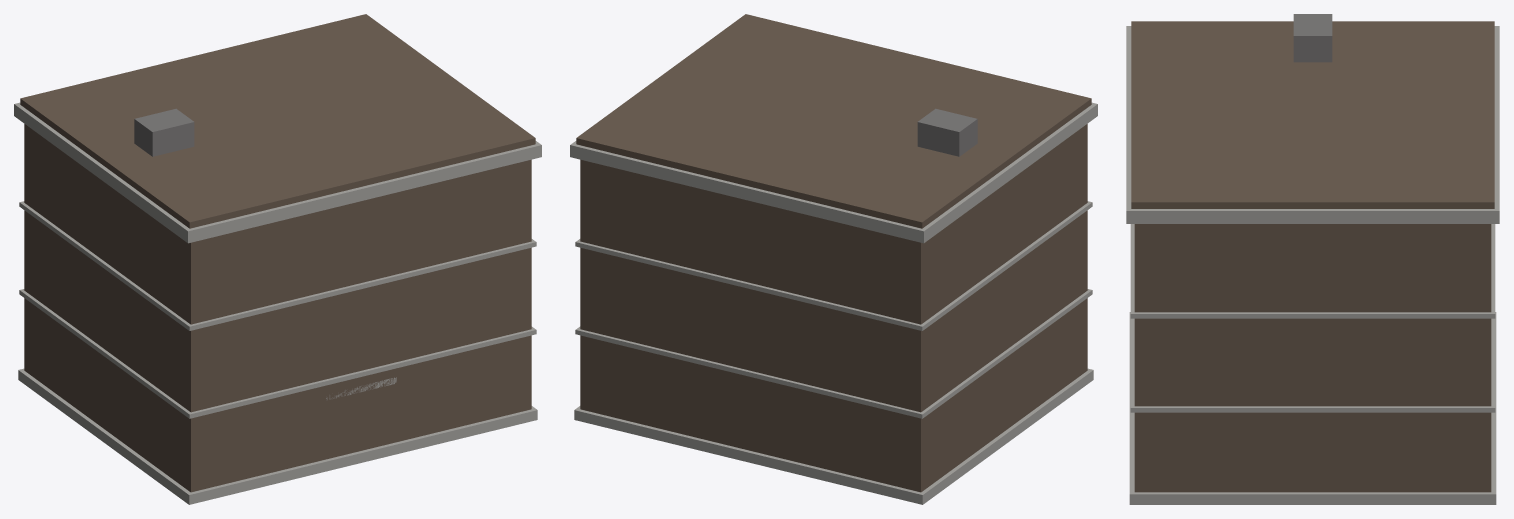
File: b_brick3.glb
3 views of the same model, side by side, from view 1: azimuth 30°, elevation 25°; view 2: azimuth 150°, elevation 25°; view 3: azimuth 270°, elevation 25° (orthographic). The views are drawn at different scales.
Parts seen in each view (by area): view 1: Building; view 2: Building; view 3: Building.
Part boxes in pixels (x1,y1,x2,y2): Building: (14, 14, 541, 504); Building: (570, 14, 1097, 504); Building: (1126, 14, 1499, 504).
Size of the model in its own units: 13.5 by 11.2 by 11.5.
5 materials, 2 textured.
